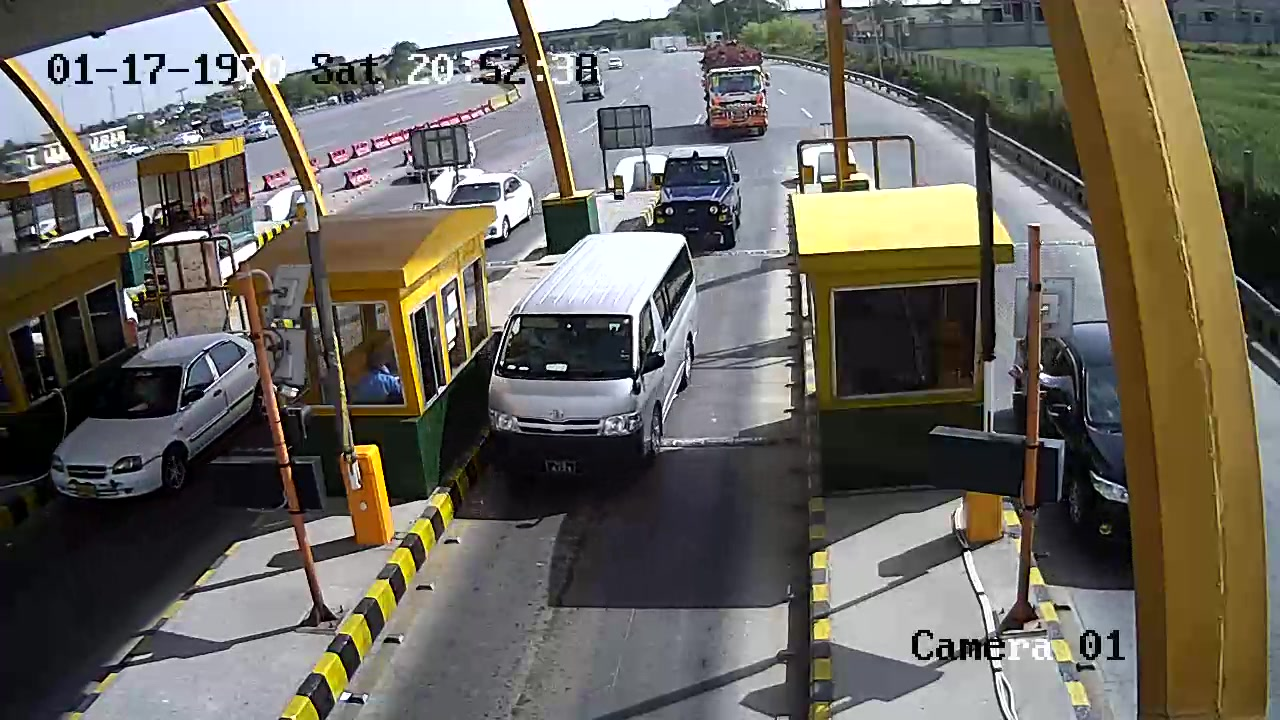F2: (477, 224, 708, 492)
